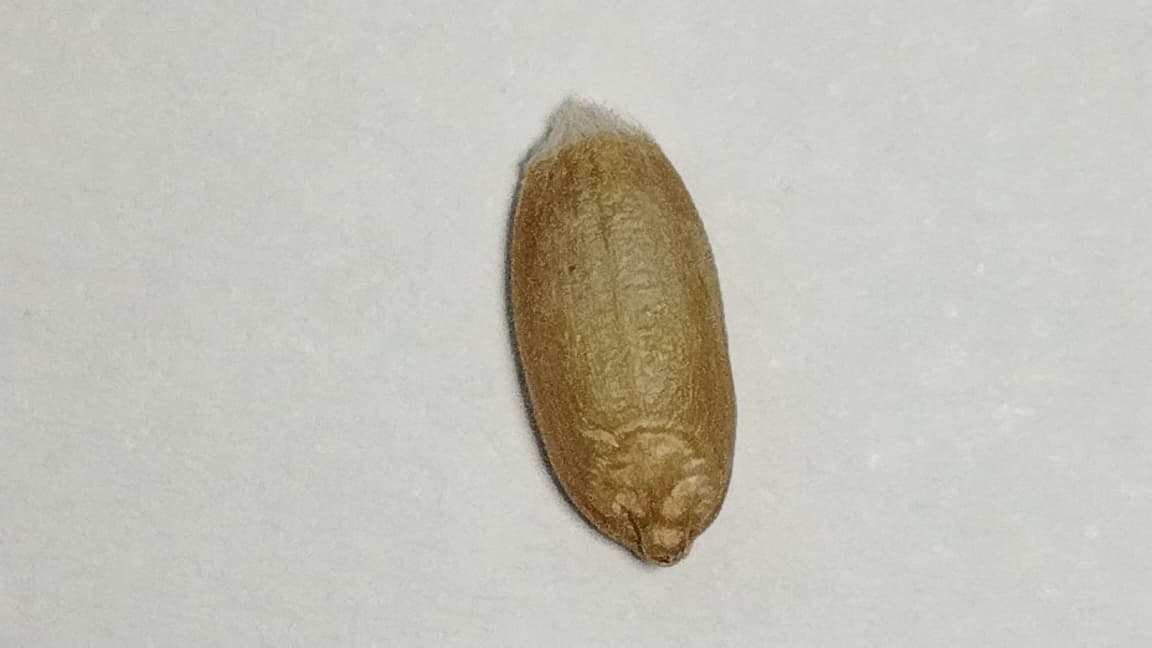healthy: (505, 130, 735, 564)
